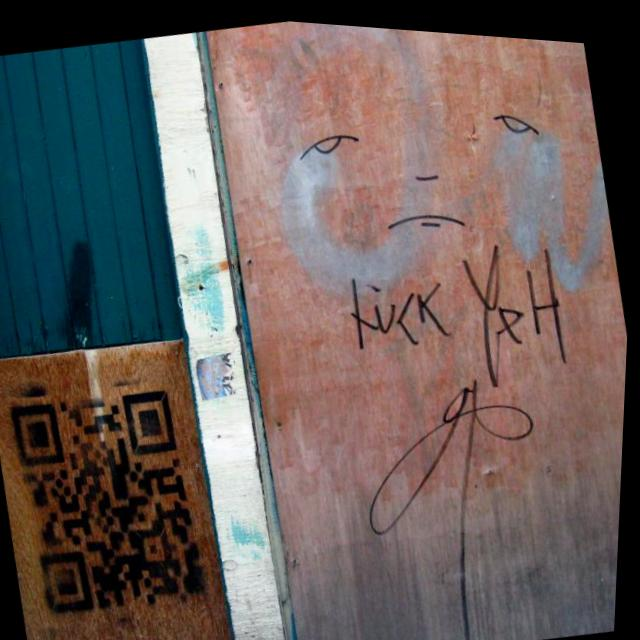qrcode: (9, 377, 221, 629)
